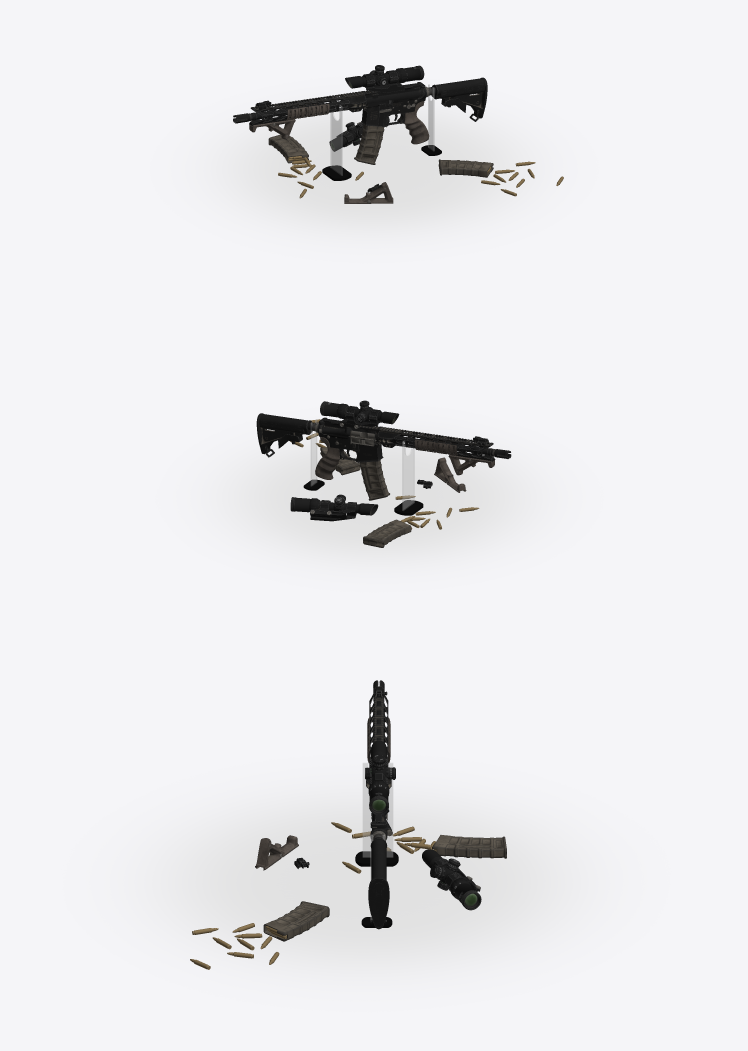
Rendered from ar15_rifle.glb.
The picture shows the model from 3 angles, top to bottom: view 1: azimuth 30°, elevation 25°; view 2: azimuth 150°, elevation 25°; view 3: azimuth 270°, elevation 25°; orthographic projection. The views are drawn at different scales.
Visible parts, largest first — view 1: Plane001, ar114Fifteen_low_Base and Stock_0, Handguard_Handguard_0, Scope_Scope Handle Mag_0, ar117Fifteen_low_Base and Stock_0, mag_Scope Handle Mag_0, mag001_Scope Handle Mag_0, Plane002, mag002_Scope Handle Mag_0, grip_Scope Handle Mag_0, Scope001_Scope Handle Mag_0, handle001_Scope Handle Mag_0; view 2: Plane001, ar114Fifteen_low_Base and Stock_0, Handguard_Handguard_0, Scope001_Scope Handle Mag_0, Scope_Scope Handle Mag_0, ar117Fifteen_low_Base and Stock_0, mag_Scope Handle Mag_0, mag002_Scope Handle Mag_0, Plane002, grip_Scope Handle Mag_0; view 3: Plane001, Scope001_Scope Handle Mag_0, ar117Fifteen_low_Base and Stock_0, Scope_Scope Handle Mag_0, mag002_Scope Handle Mag_0, mag001_Scope Handle Mag_0, Handguard_Handguard_0, Plane002, handle001_Scope Handle Mag_0.
Boxes of the visible parts, <box> form: Plane001: <box>190,92,558,246</box>; ar114Fifteen_low_Base and Stock_0: <box>233,83,426,127</box>; Handguard_Handguard_0: <box>249,91,366,126</box>; Scope_Scope Handle Mag_0: <box>345,65,424,92</box>; ar117Fifteen_low_Base and Stock_0: <box>425,77,487,118</box>; mag_Scope Handle Mag_0: <box>354,124,384,164</box>; mag001_Scope Handle Mag_0: <box>438,159,493,177</box>; Plane002: <box>330,105,342,175</box>; mag002_Scope Handle Mag_0: <box>268,134,308,163</box>; grip_Scope Handle Mag_0: <box>404,101,429,144</box>; Scope001_Scope Handle Mag_0: <box>329,116,389,151</box>; handle001_Scope Handle Mag_0: <box>344,182,393,203</box>; Plane001: <box>195,421,563,575</box>; ar114Fifteen_low_Base and Stock_0: <box>317,418,511,462</box>; Handguard_Handguard_0: <box>378,426,494,461</box>; Scope001_Scope Handle Mag_0: <box>290,494,378,521</box>; Scope_Scope Handle Mag_0: <box>320,400,399,428</box>; ar117Fifteen_low_Base and Stock_0: <box>256,413,318,454</box>; mag_Scope Handle Mag_0: <box>360,460,389,500</box>; mag002_Scope Handle Mag_0: <box>363,519,411,547</box>; Plane002: <box>402,441,414,510</box>; grip_Scope Handle Mag_0: <box>315,437,339,479</box>; Plane001: <box>115,776,617,989</box>; Scope001_Scope Handle Mag_0: <box>422,849,481,910</box>; ar117Fifteen_low_Base and Stock_0: <box>368,831,389,929</box>; Scope_Scope Handle Mag_0: <box>365,740,395,815</box>; mag002_Scope Handle Mag_0: <box>432,835,506,858</box>; mag001_Scope Handle Mag_0: <box>263,901,329,941</box>; Handguard_Handguard_0: <box>366,687,391,788</box>; Plane002: <box>363,763,392,857</box>; handle001_Scope Handle Mag_0: <box>255,835,298,870</box>.
Size of what is drawn, in the model's own units: 2.3 by 0.4679 by 2.3.
6 materials, 4 textured.
